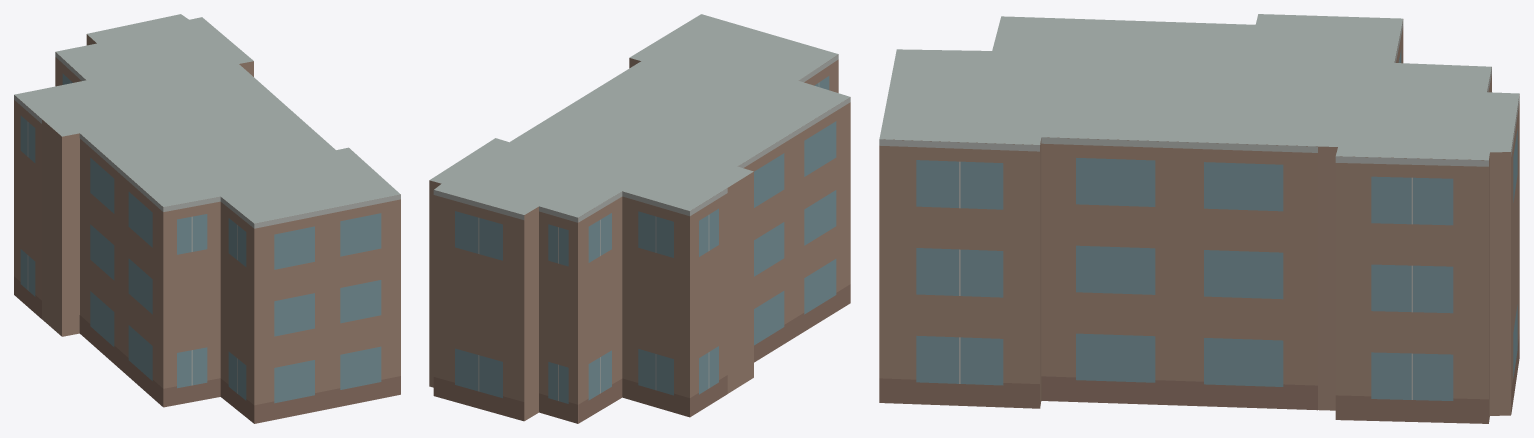
File: survey-upis-32558524.glb
3 views of the same model, side by side, from view 1: azimuth 30°, elevation 25°; view 2: azimuth 150°, elevation 25°; view 3: azimuth 270°, elevation 25° (orthographic). The views are drawn at different scales.
Visible parts, largest first — view 1: survey-upis-32558524.tmp; view 2: survey-upis-32558524.tmp; view 3: survey-upis-32558524.tmp.
Part boxes in pixels (bbox=[...]): survey-upis-32558524.tmp: bbox=[14, 14, 400, 423]; survey-upis-32558524.tmp: bbox=[429, 14, 850, 423]; survey-upis-32558524.tmp: bbox=[879, 14, 1519, 423].
Bounding box in the file's own units: 11.67 × 9.8 × 21.58.
